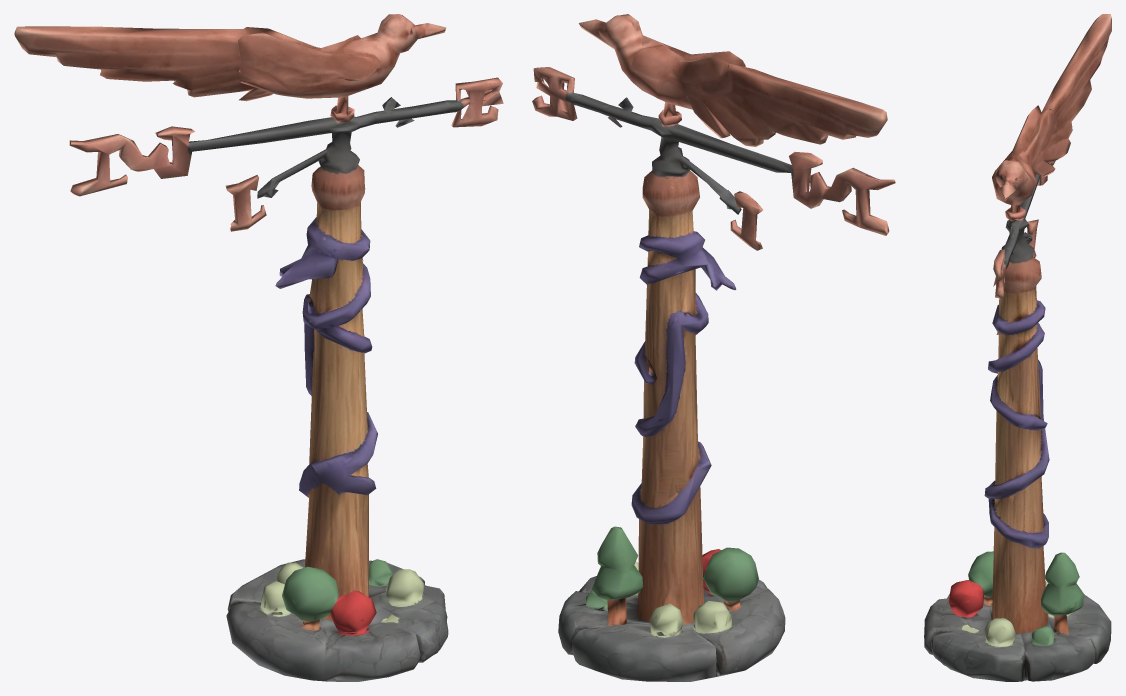
The model's file is wind-vane.glb.
The picture shows the model from 3 angles, left to right: view 1: azimuth 30°, elevation 25°; view 2: azimuth 150°, elevation 25°; view 3: azimuth 270°, elevation 25°; orthographic projection. The views are drawn at different scales.
Size of the model in its own units: 2.08 by 3 by 0.9717.
Materials: 1 (1 with a texture image).
